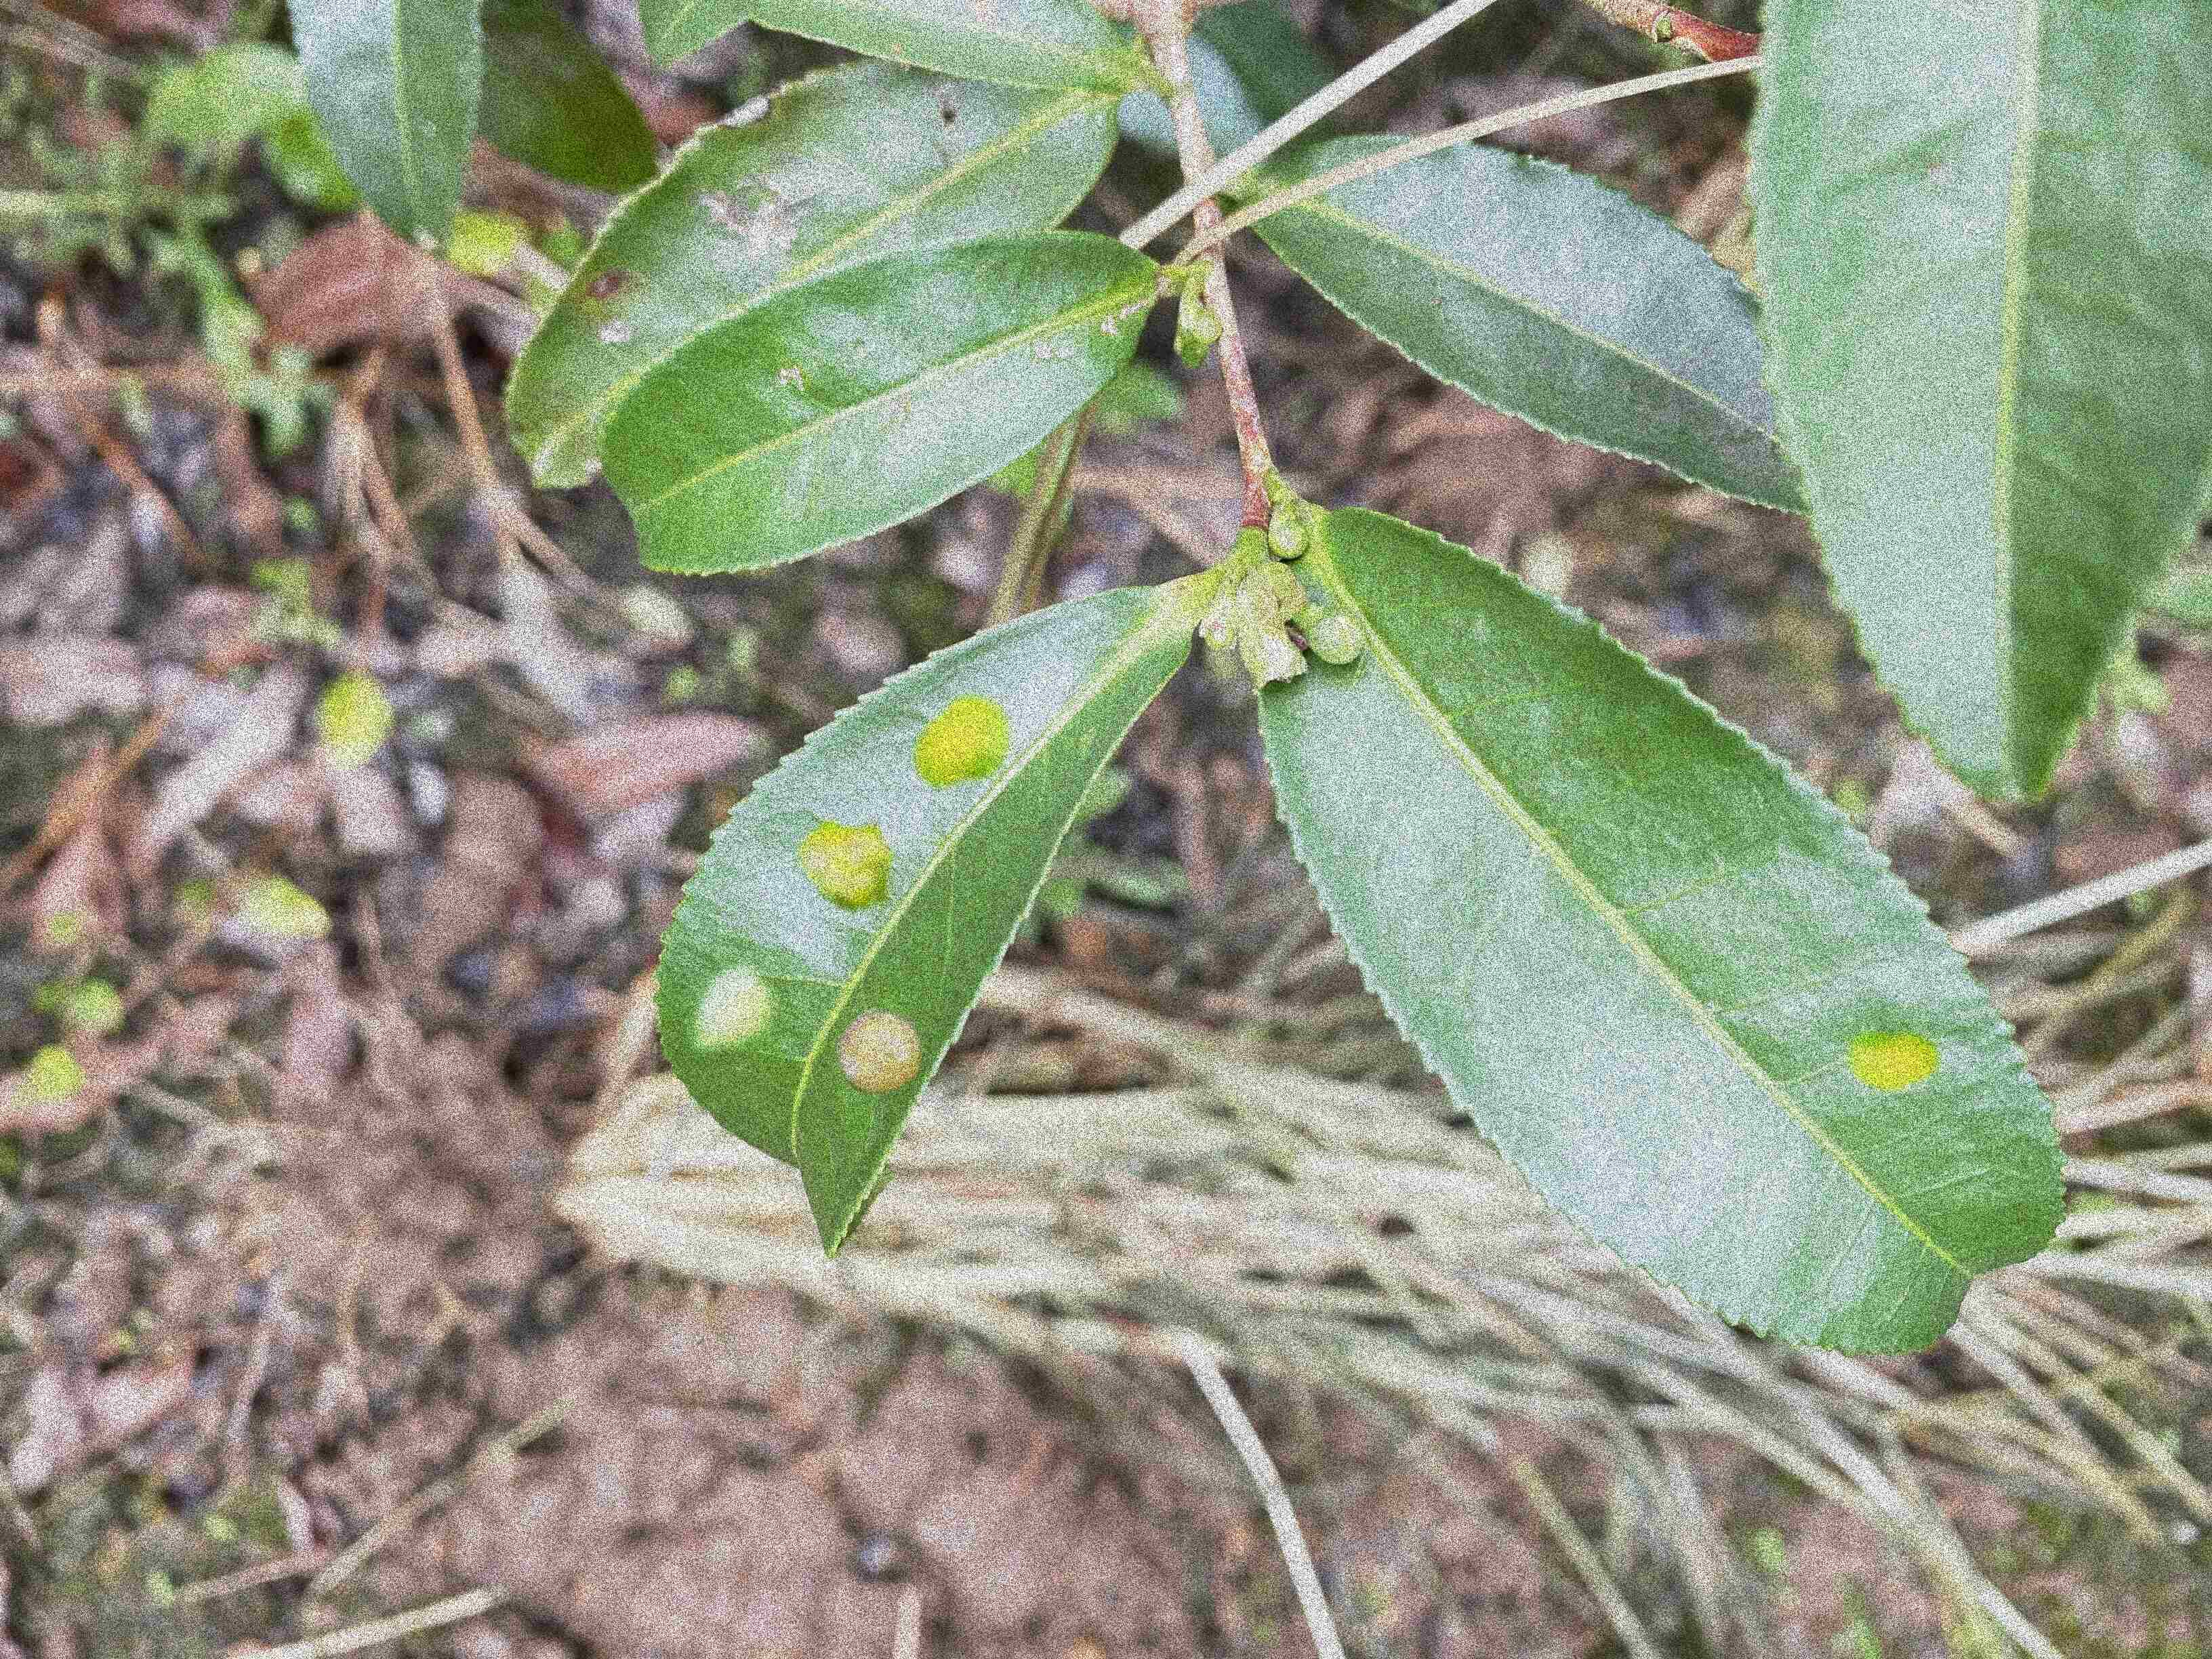chabing_high: (648, 589, 1188, 1260)
chabing_low: (1249, 505, 2069, 1352)
healthy: (1761, 9, 2205, 795), (1249, 134, 1775, 512)
tanju_low: (498, 77, 1115, 490), (604, 234, 1163, 573)
